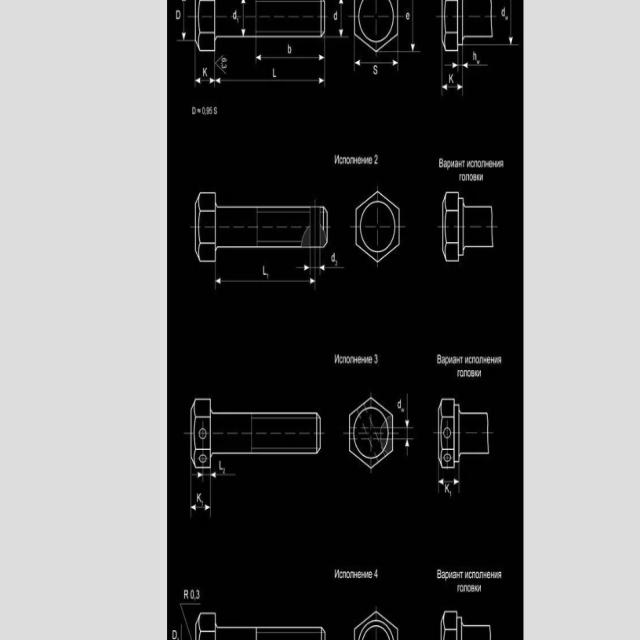marking_line: (215, 75, 325, 87), (216, 277, 315, 284), (256, 54, 325, 63), (356, 58, 400, 68), (404, 392, 410, 458), (194, 471, 237, 480), (240, 0, 249, 36), (338, 0, 346, 37), (411, 3, 417, 51), (440, 83, 464, 95), (320, 265, 346, 275), (437, 476, 463, 486), (508, 2, 514, 44), (452, 60, 472, 70), (180, 0, 185, 39), (189, 505, 210, 512), (196, 78, 214, 86), (296, 263, 309, 272)
